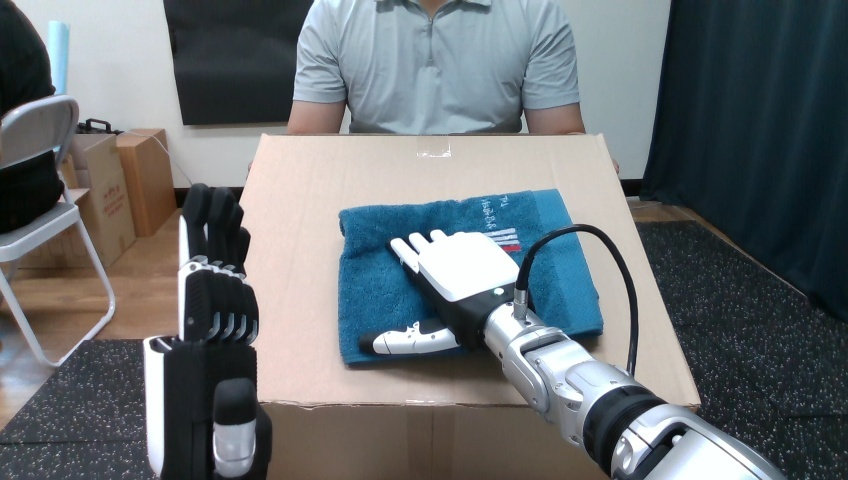left robot hand: (361, 224, 784, 479), (143, 184, 271, 478), (527, 230, 631, 370)
